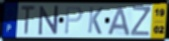A: (107, 6, 132, 37)
K: (87, 6, 105, 36)
N: (38, 5, 59, 37)
P: (63, 6, 84, 36)
T: (20, 4, 37, 36)
Z: (130, 5, 151, 37)
